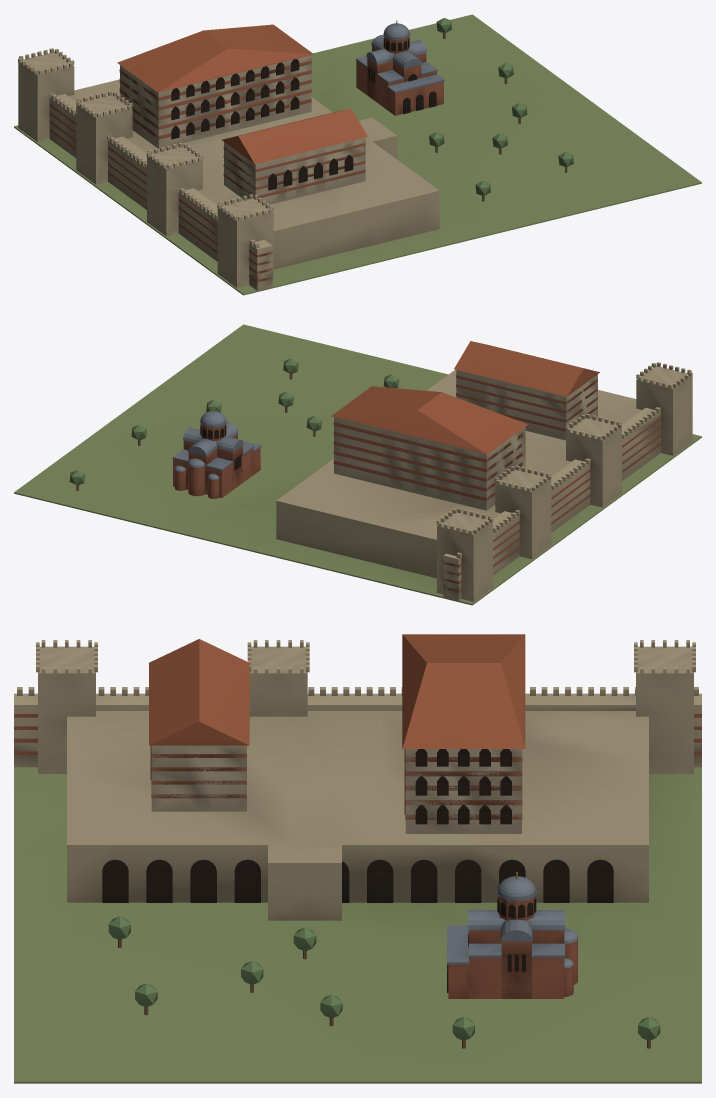
File: blachernae.glb
3 renders of one model, top to bottom at view 1: azimuth 30°, elevation 25°; view 2: azimuth 150°, elevation 25°; view 3: azimuth 270°, elevation 25°, orthographic. The views are drawn at different scales.
Parts seen in each view (by area): view 1: p0_terrace, p1_palace, p2_church; view 2: p0_terrace, p1_palace, p2_church; view 3: p0_terrace, p1_palace, p2_church.
Part boxes in pixels (<box>): p0_terrace: <box>14,14,701,295</box>; p1_palace: <box>117,24,367,205</box>; p2_church: <box>356,18,573,201</box>; p0_terrace: <box>14,324,701,605</box>; p1_palace: <box>331,341,599,510</box>; p2_church: <box>69,358,399,498</box>; p0_terrace: <box>14,640,701,1083</box>; p1_palace: <box>149,634,525,833</box>; p2_church: <box>108,845,660,1048</box>.
Bounding box in the file's own units: 150 × 36.4 × 130.
